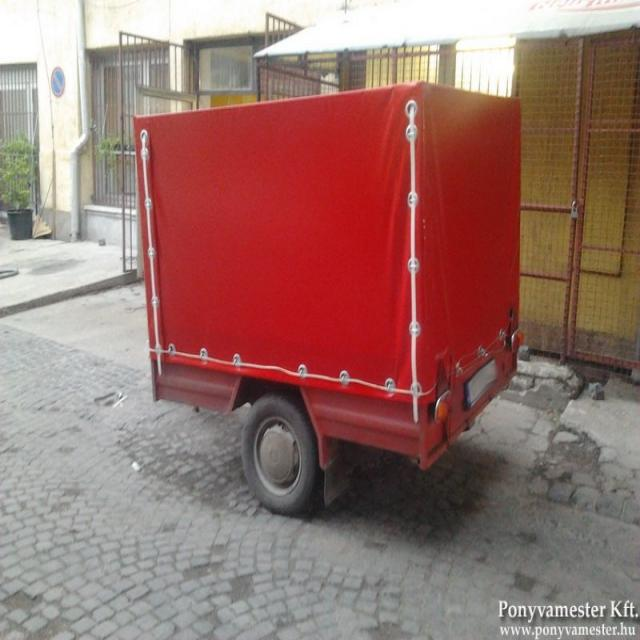trailer: (132, 79, 524, 472)
